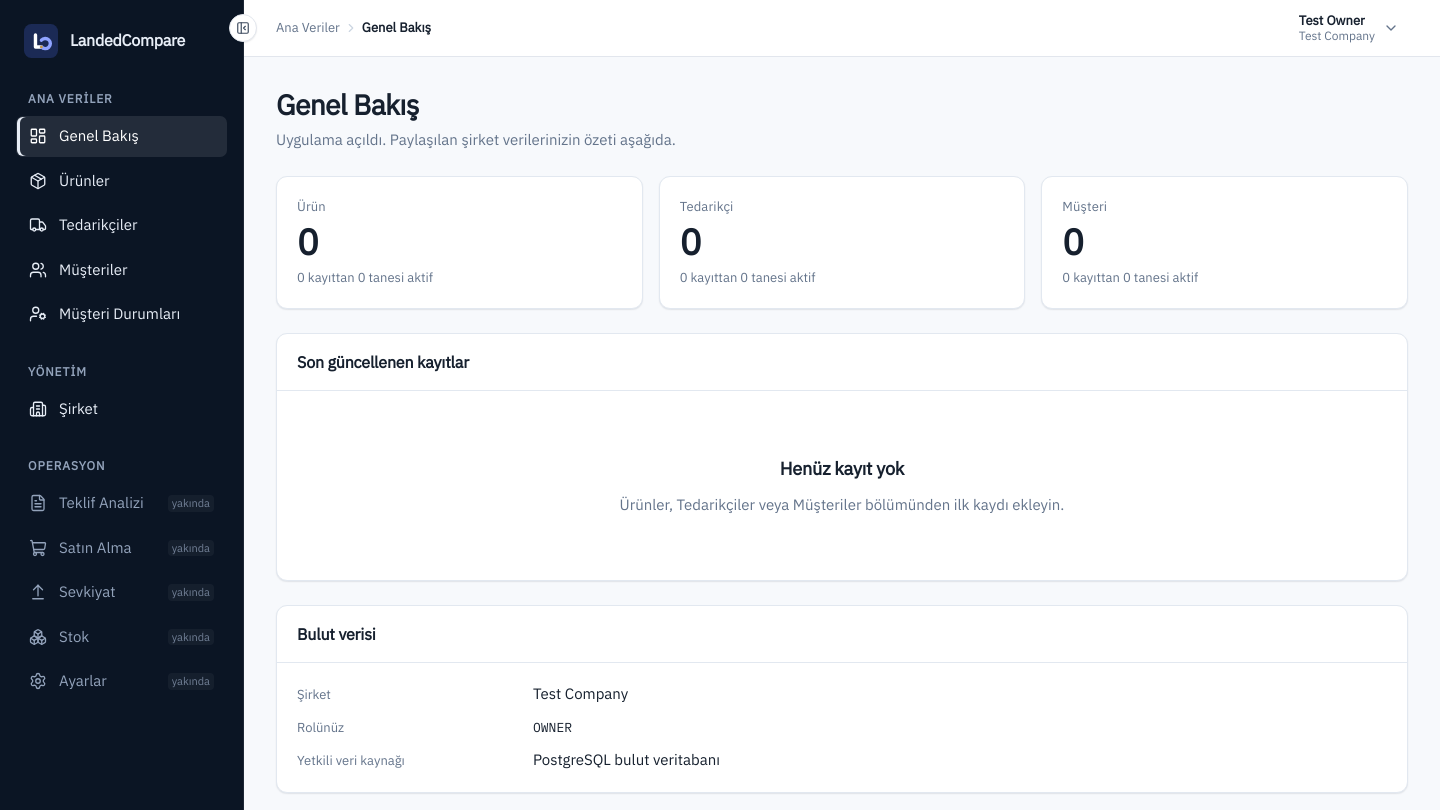
Test: customer statuses screen › places the record-count footer in the same card__body wrapper Products/Suppliers/Customers use
This screenshot has width=1440, height=810.
expect the navigation bar named "Ana menü" is shown: met, box [16,82,227,790]
Click the link "Müşteri Durumları". click: (105, 314)
box: [29,304,180,323]
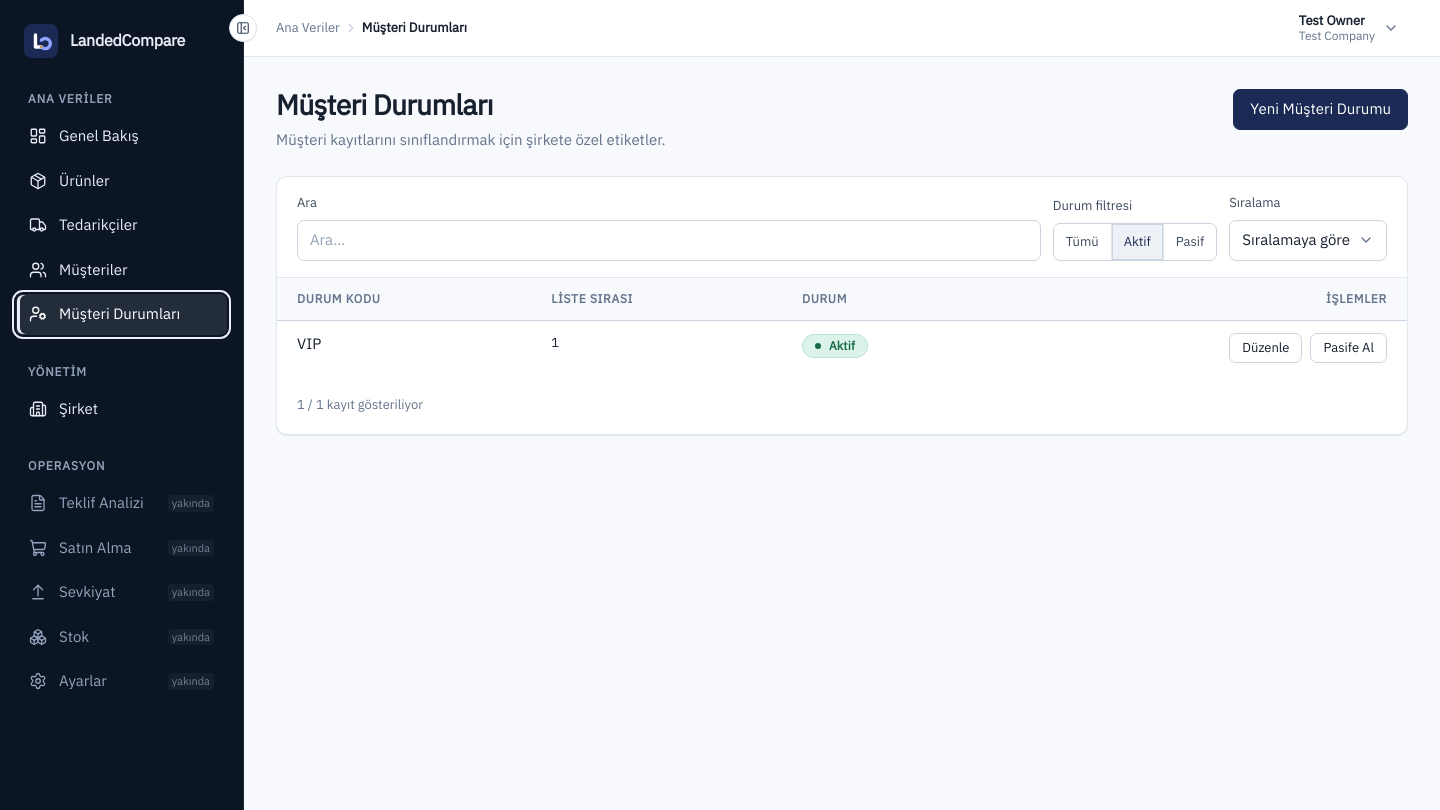
expect the heading "Müşteri Durumları" is shown: met, box [276,86,493,123]
expect the text "1 / 1 kayıt gösteriliyor" is shown: met, box [297,396,423,413]
